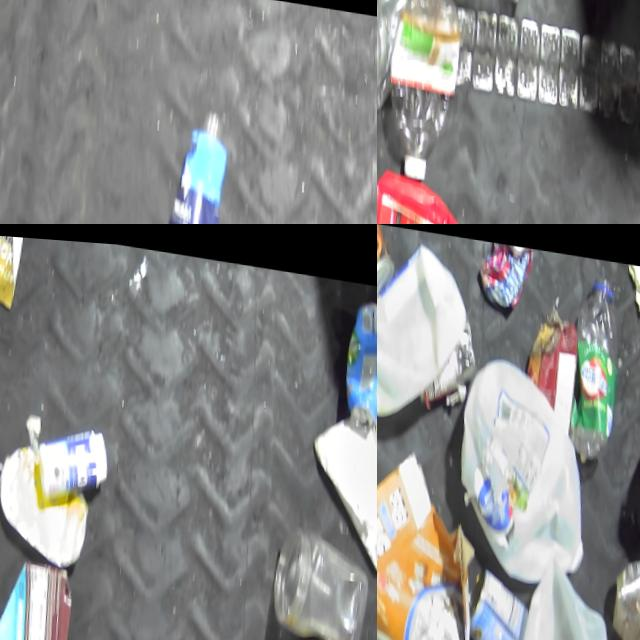can: (131, 92, 234, 224), (455, 555, 529, 640), (472, 231, 535, 311)
milk_jug: (443, 343, 597, 585), (377, 225, 474, 425), (498, 540, 614, 640)
non_white_jug: (377, 159, 500, 224)
plastic_bottle: (377, 0, 464, 179), (559, 257, 627, 456)
